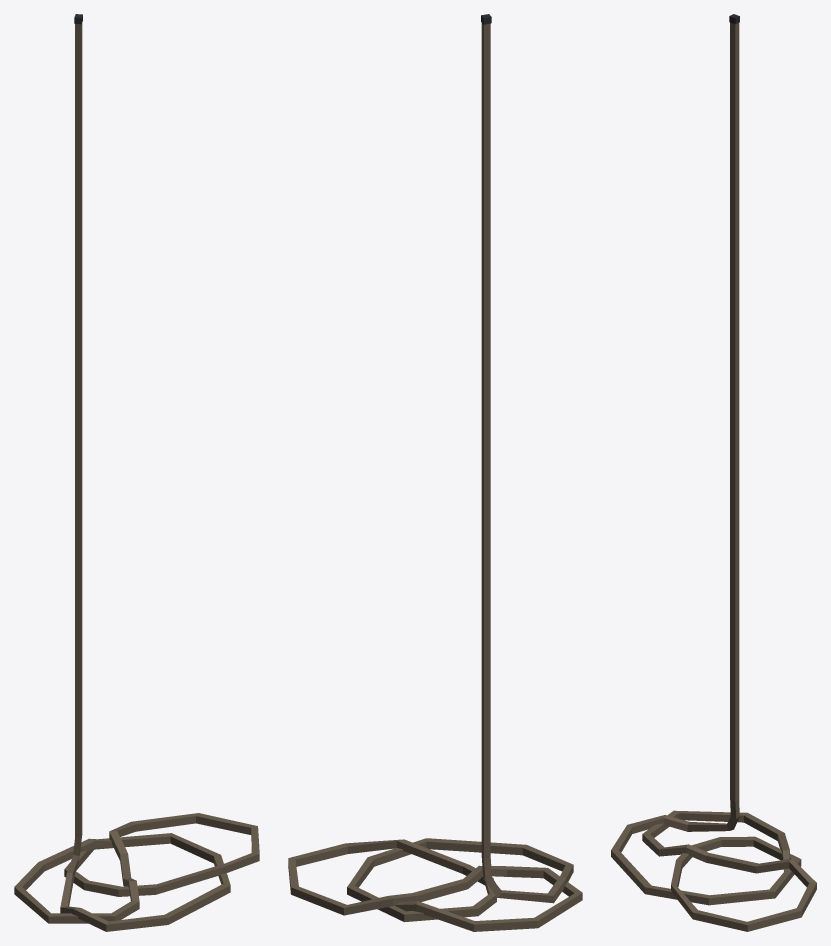
Rendered from SM_Prop_RopeSlide_01.fbx.
3 views of the same model, side by side, from view 1: azimuth 30°, elevation 25°; view 2: azimuth 150°, elevation 25°; view 3: azimuth 270°, elevation 25° (orthographic). The views are drawn at different scales.
Visible parts, largest first — view 1: SM_Prop_RopeSlide_01, SM_Prop_RopeSlide_Raised_01; view 2: SM_Prop_RopeSlide_01, SM_Prop_RopeSlide_Raised_01; view 3: SM_Prop_RopeSlide_01, SM_Prop_RopeSlide_Raised_01.
Part boxes in pixels (box(x1,y1,x2,y2)): SM_Prop_RopeSlide_01: box(14, 813, 259, 931); SM_Prop_RopeSlide_Raised_01: box(74, 14, 82, 837); SM_Prop_RopeSlide_01: box(288, 838, 582, 931); SM_Prop_RopeSlide_Raised_01: box(481, 14, 491, 859); SM_Prop_RopeSlide_01: box(611, 799, 816, 931); SM_Prop_RopeSlide_Raised_01: box(729, 14, 739, 801).
Size of the model in its own units: 131 by 439 by 98.41.
